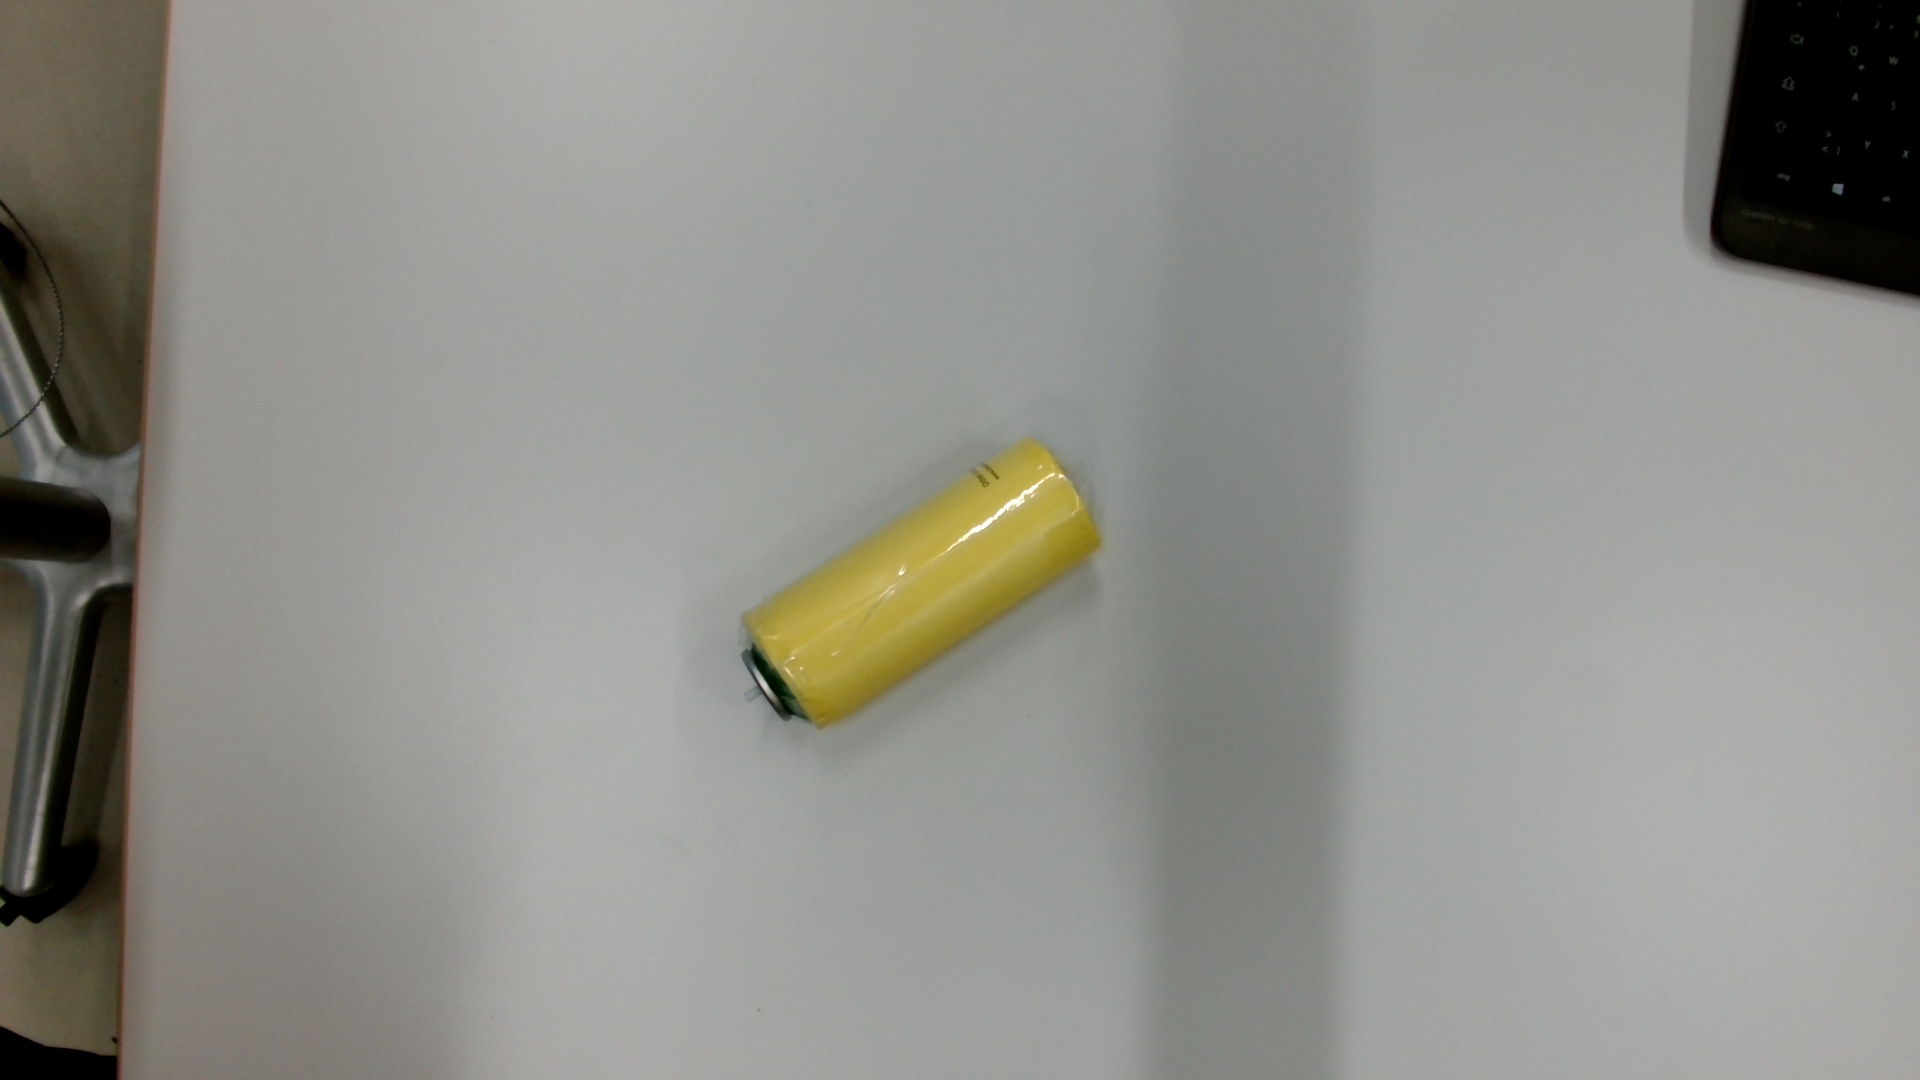Cylinder: (727, 425, 1125, 744)
